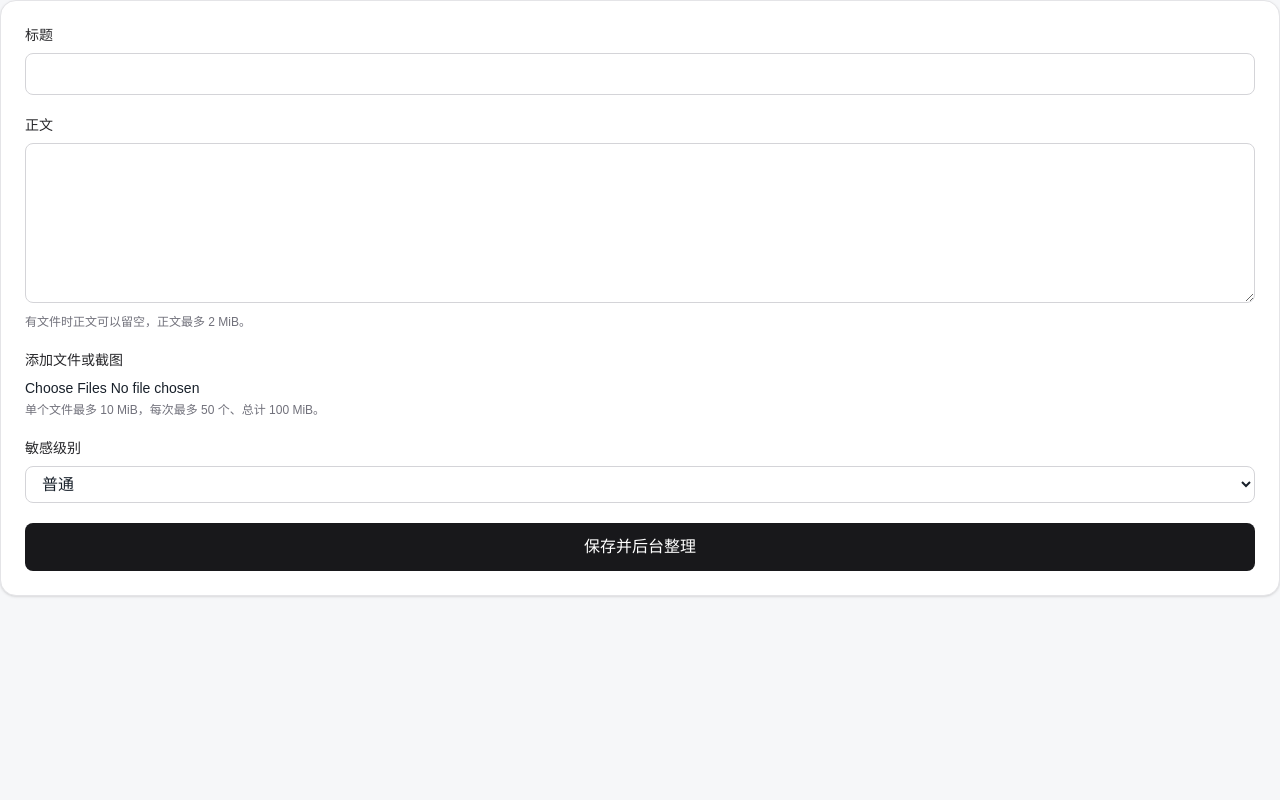
it: ManualCaptureForm › requires text or a file
In the field labelled "标题": (640,74) [25,53,1255,95], type "Synthetic title"
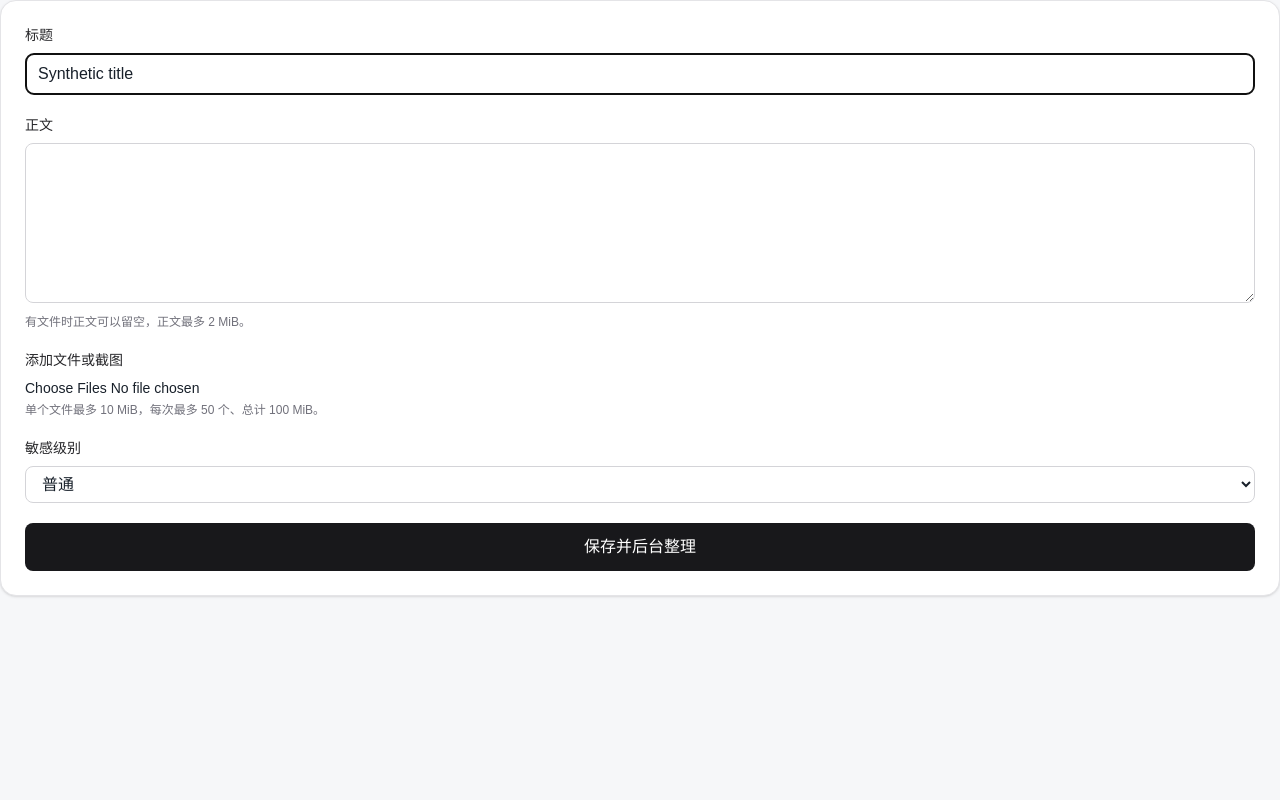
Submit the form named "保存并后台整理"
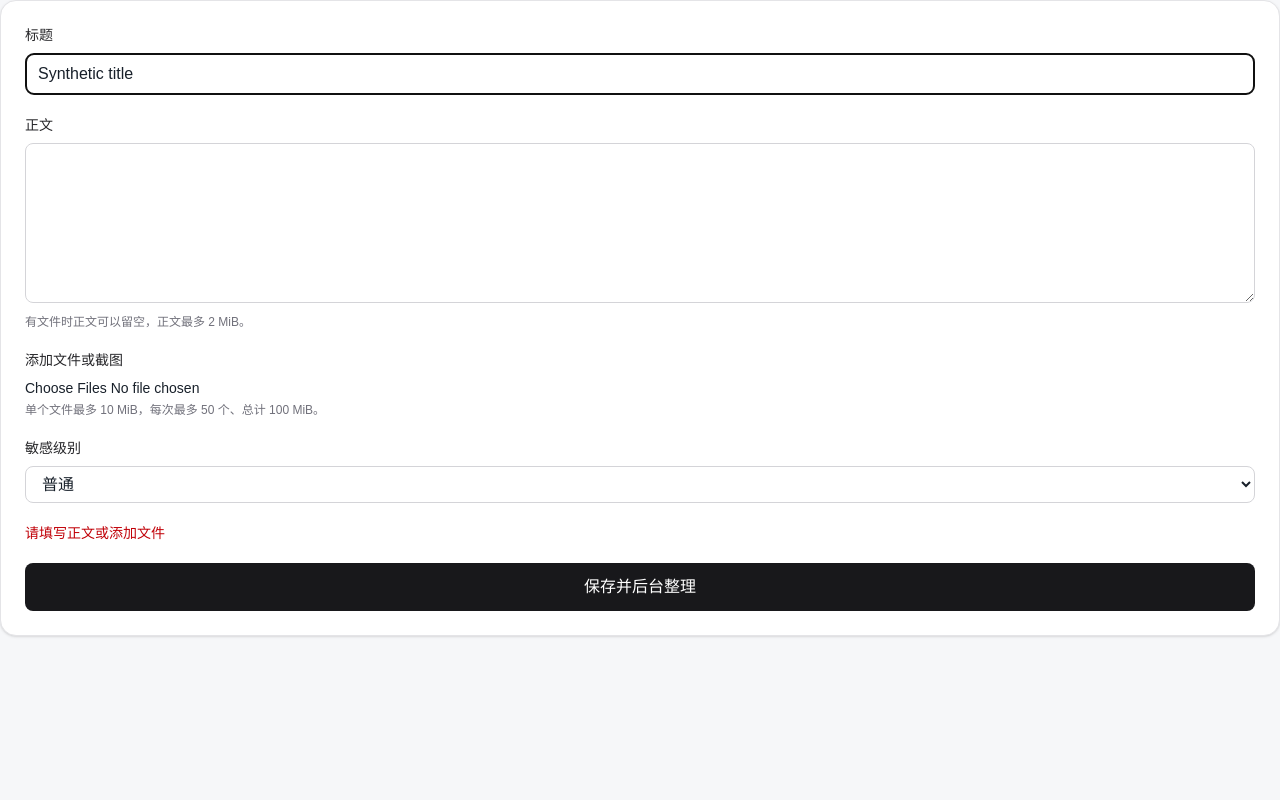
Now the text "请填写正文或添加文件" is shown, box [25,525,165,541]
